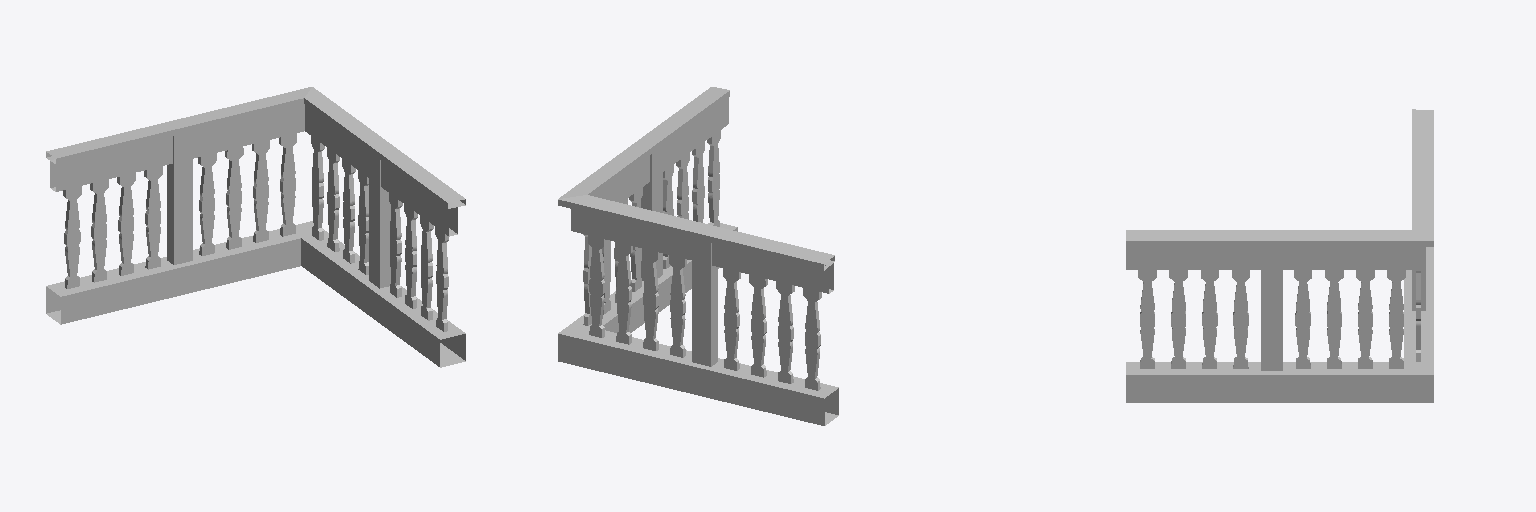
File: Balcony_Simple_Corner.obj
The picture shows the model from 3 angles: view 1: azimuth 30°, elevation 25°; view 2: azimuth 150°, elevation 25°; view 3: azimuth 270°, elevation 25°; orthographic projection.
Parts seen in each view (by area): view 1: Balcony_Simple_Corner; view 2: Balcony_Simple_Corner; view 3: Balcony_Simple_Corner.
Boxes of the visible parts, x1=… form: Balcony_Simple_Corner: x1=46, y1=87, x2=465, y2=367; Balcony_Simple_Corner: x1=558, y1=87, x2=838, y2=425; Balcony_Simple_Corner: x1=1126, y1=109, x2=1433, y2=402.
Bounding box in the file's own units: 2.1 × 1.23 × 2.1.